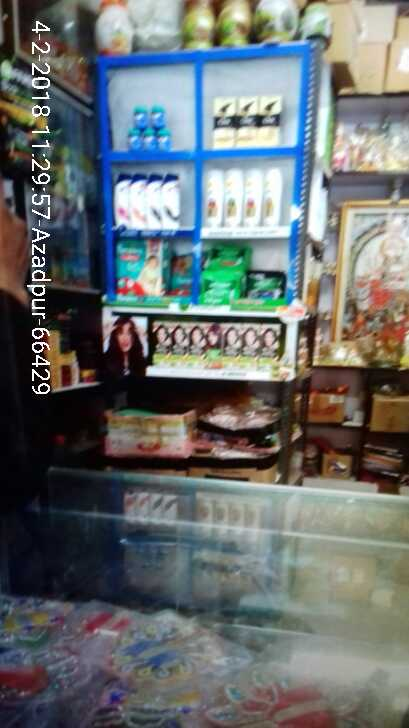vicks: (124, 102, 168, 154)
